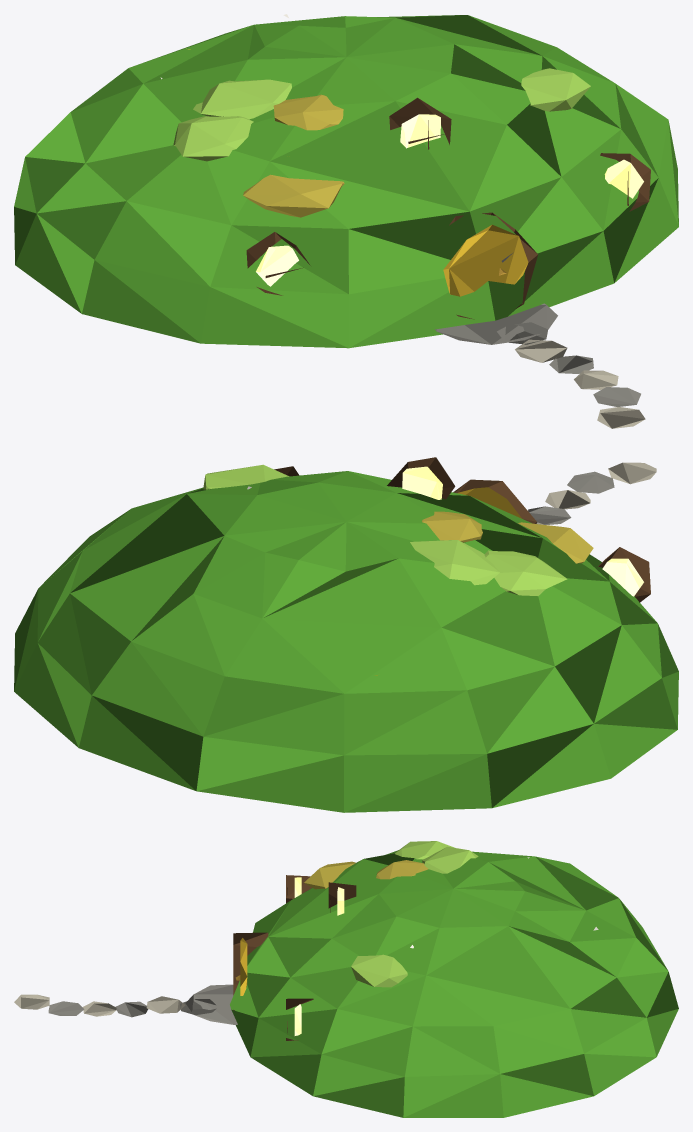
Rendered from hobbit_hole_3_lod1.glb.
3 views of the same model, one above another, from view 1: azimuth 30°, elevation 25°; view 2: azimuth 150°, elevation 25°; view 3: azimuth 270°, elevation 25° (orthographic). The views are drawn at different scales.
Parts seen in each view (by area): view 1: hobbit_hole_3_lod1; view 2: hobbit_hole_3_lod1; view 3: hobbit_hole_3_lod1.
Part boxes in pixels (x1,y1,x2,y2): hobbit_hole_3_lod1: [14, 14, 678, 428]; hobbit_hole_3_lod1: [14, 457, 678, 812]; hobbit_hole_3_lod1: [14, 841, 678, 1117].
Bounding box in the file's own units: 14.82 × 3.92 × 19.06.
